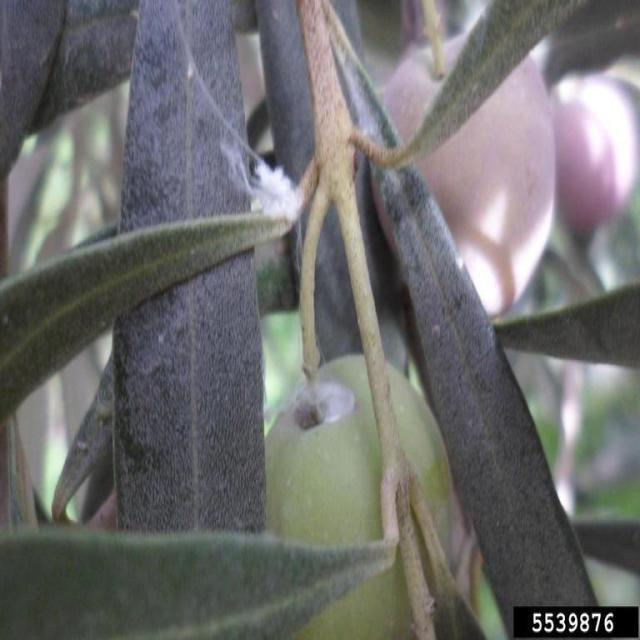Psyllid: (219, 115, 317, 248), (266, 355, 374, 456)
